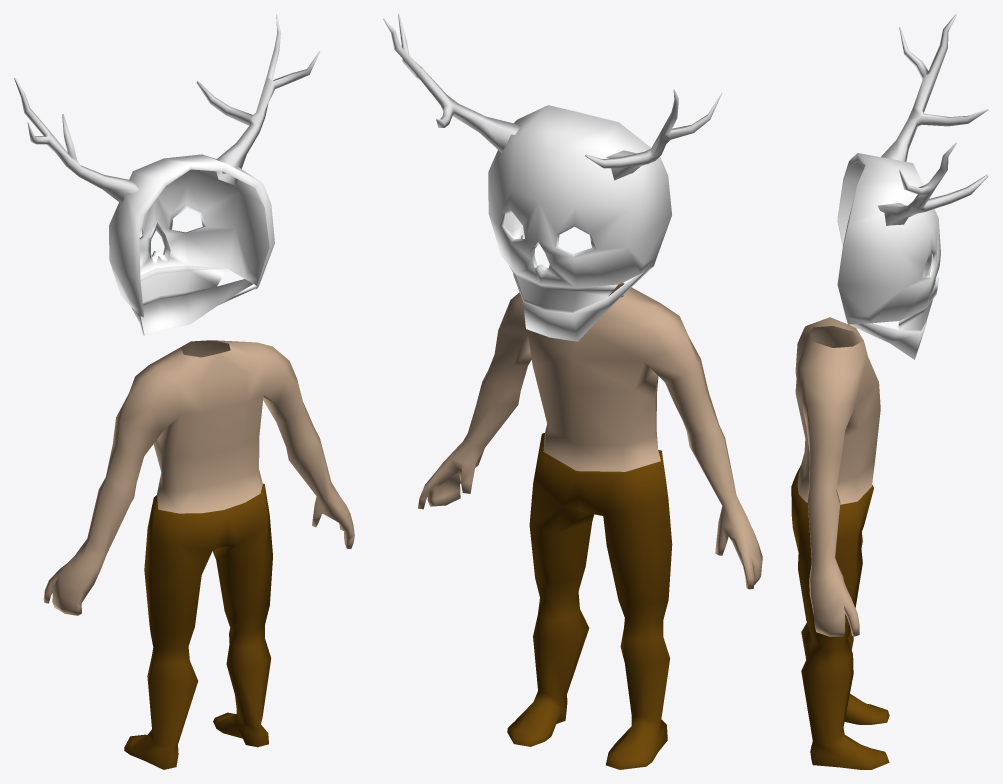
Rendered from Character.fbx.
The picture shows the model from 3 angles, left to right: view 1: azimuth 30°, elevation 25°; view 2: azimuth 150°, elevation 25°; view 3: azimuth 270°, elevation 25°; orthographic projection. The views are drawn at different scales.
Visible parts, largest first — view 1: Character_Complete_Male.005, Character_Complete_Male.004; view 2: Character_Complete_Male.005, Character_Complete_Male.004; view 3: Character_Complete_Male.005, Character_Complete_Male.004.
Boxes of the visible parts, x1,y1,x2,y2 form: Character_Complete_Male.005: (43,340,354,769); Character_Complete_Male.004: (14,14,320,335); Character_Complete_Male.005: (418,283,762,769); Character_Complete_Male.004: (383,14,722,341); Character_Complete_Male.005: (791,317,889,769); Character_Complete_Male.004: (837,14,988,359).
Size of the model in its own units: 0.81 by 1.69 by 0.4561.
